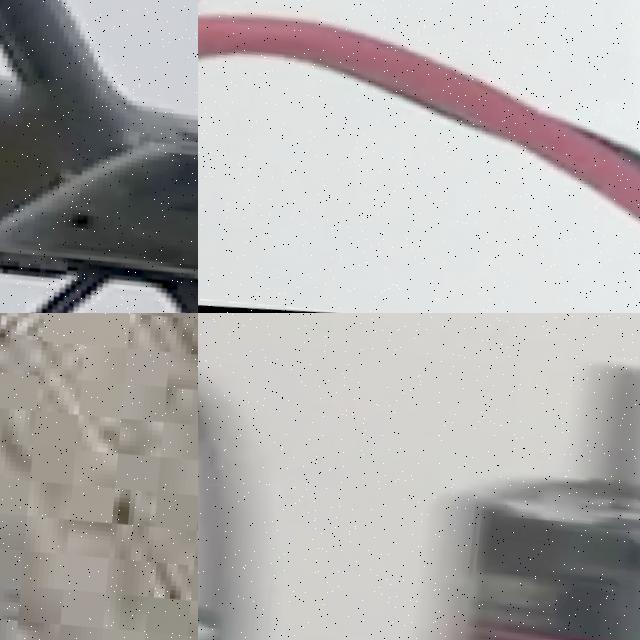drone: (198, 313, 640, 640), (198, 0, 640, 313), (0, 0, 198, 313)
